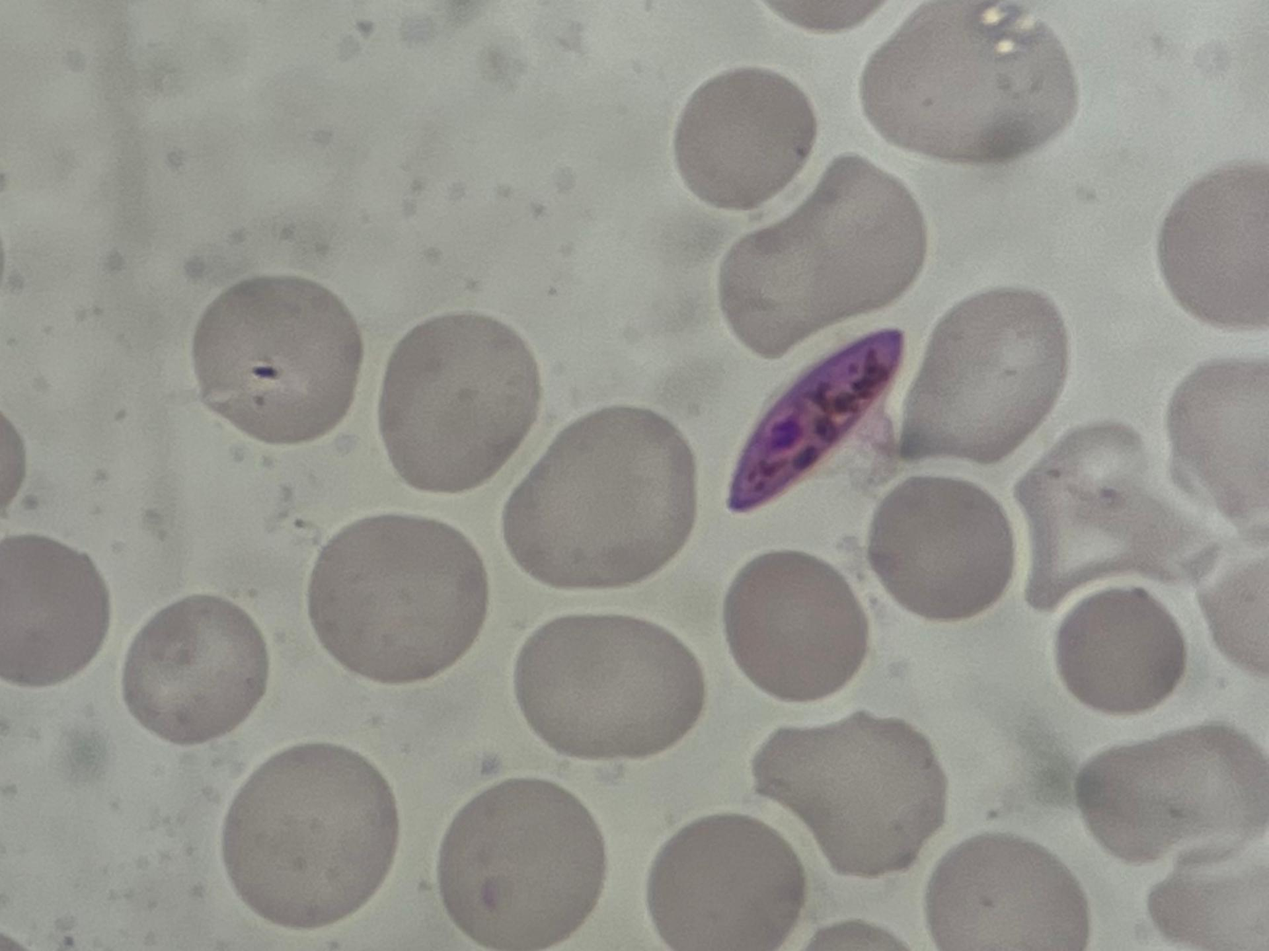Infected: (727, 322, 900, 517)
Uninfected: (1009, 424, 1221, 625), (718, 159, 922, 345), (498, 406, 699, 590), (864, 1, 1072, 173), (229, 741, 397, 938), (379, 309, 543, 500), (910, 274, 1071, 468), (302, 516, 488, 683), (751, 717, 946, 874), (189, 276, 364, 448), (438, 767, 601, 951), (513, 613, 712, 762), (1075, 725, 1269, 863), (868, 468, 1019, 633), (718, 551, 871, 702), (119, 596, 267, 746), (639, 814, 800, 951), (676, 58, 812, 217), (921, 833, 1090, 951), (0, 521, 112, 691), (1058, 578, 1178, 725)
